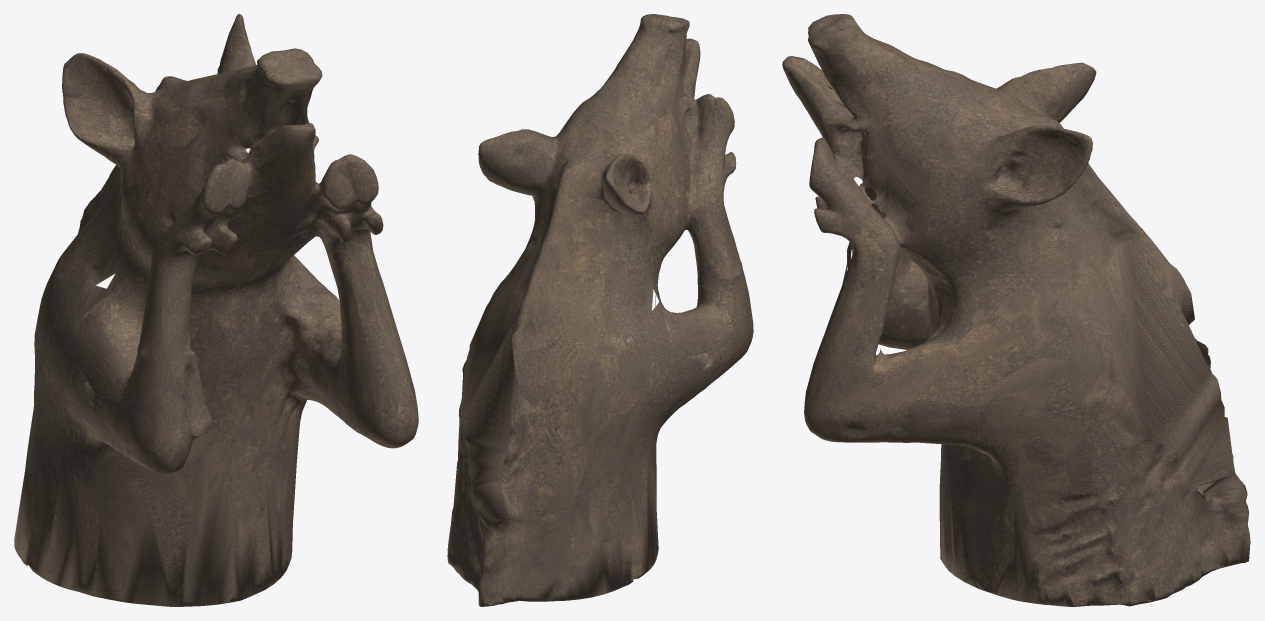
File: 17_boar_gluttony.glb
The picture shows the model from 3 angles, left to right: view 1: azimuth 30°, elevation 25°; view 2: azimuth 150°, elevation 25°; view 3: azimuth 270°, elevation 25°; orthographic projection. The views are drawn at different scales.
Visible parts, largest first — view 1: Mesh_0; view 2: Mesh_0; view 3: Mesh_0.
Boxes of the visible parts, <box> form: Mesh_0: <box>14,14,418,606</box>; Mesh_0: <box>447,14,753,606</box>; Mesh_0: <box>782,14,1250,606</box>.
Size of the model in its own units: 1.49 by 3.25 by 2.56.
Materials: 4 (4 with a texture image).
